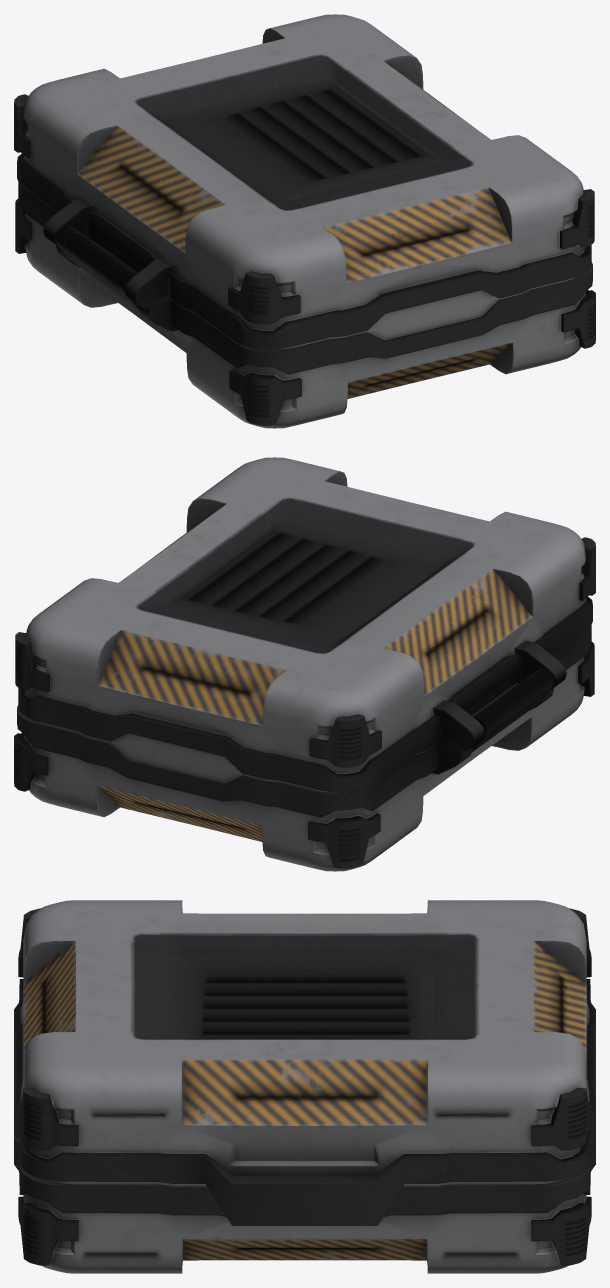
Rendered from Laptop Closed.glb.
The picture shows the model from 3 angles, top to bottom: view 1: azimuth 30°, elevation 25°; view 2: azimuth 150°, elevation 25°; view 3: azimuth 270°, elevation 25°; orthographic projection. The views are drawn at different scales.
Parts seen in each view (by area): view 1: Laptop_Closed; view 2: Laptop_Closed; view 3: Laptop_Closed.
Part boxes in pixels (bbox=[...]): Laptop_Closed: bbox=[14, 14, 595, 428]; Laptop_Closed: bbox=[14, 457, 595, 871]; Laptop_Closed: bbox=[14, 900, 595, 1273].
Bounding box in the file's own units: 0.3959 × 0.1594 × 0.4199.
1 material, 1 textured.
